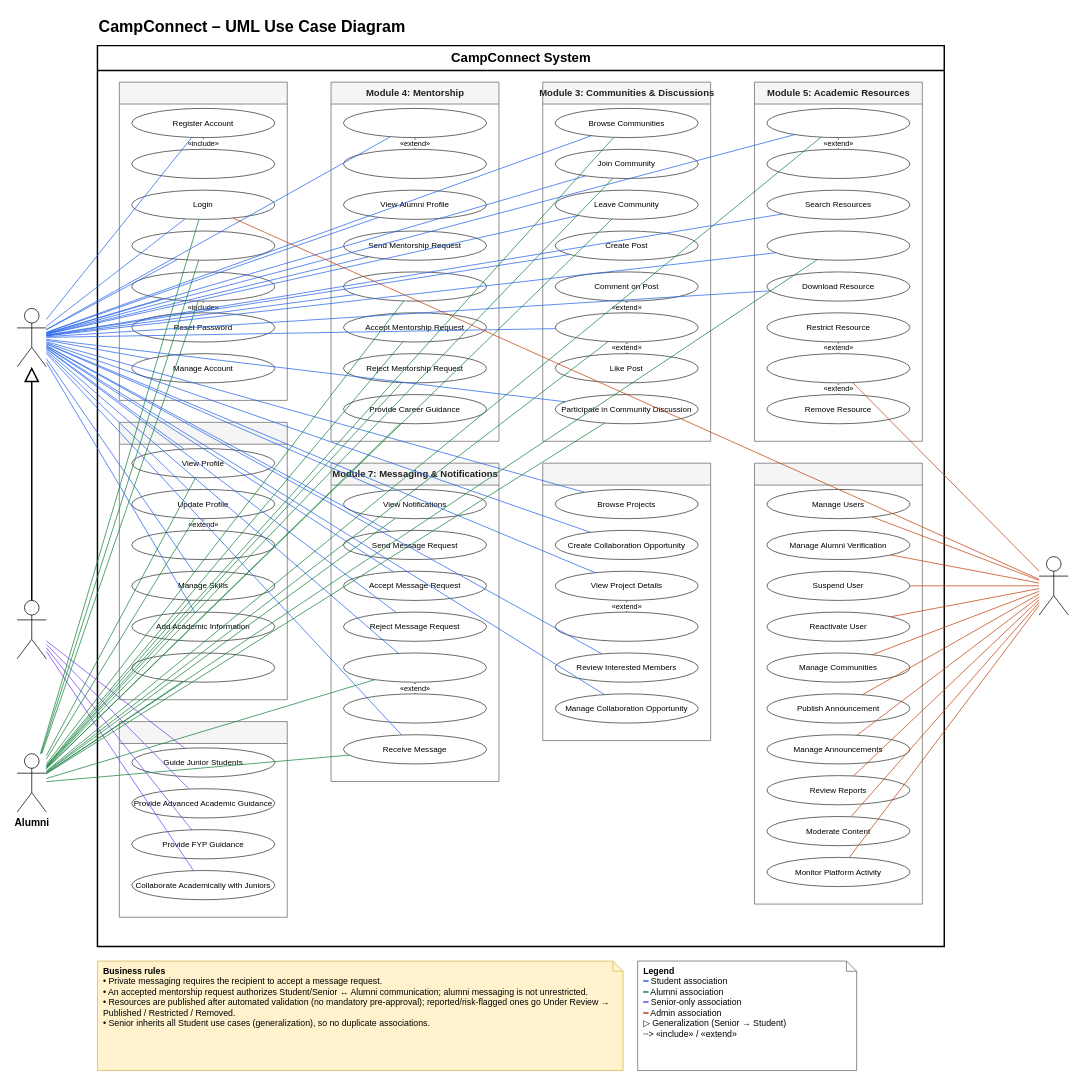
Image size: 1082x1083. Some labels were removed from this diagram. Each missing label, with the box of its shape:
Add Career Information (Alumni): (131, 652, 275, 682)
Admin: (1038, 556, 1068, 615)
Attach Files to Message: (343, 693, 487, 723)
Browse Alumni: (343, 108, 487, 138)
Browse Resources: (766, 108, 910, 138)
Express Interest: (554, 611, 698, 641)
Filter Alumni: (343, 149, 487, 178)
Forgot Password: (131, 271, 275, 301)
Logout: (131, 230, 275, 260)
Module 1: Authentication & Account: (119, 81, 287, 400)
Module 2: Profile Management: (119, 422, 287, 700)
Module 6: Project Collaboration: (542, 462, 711, 741)
Module 8: Administration & Moderation: (754, 462, 922, 904)
Report Resource: (766, 149, 910, 178)
Review Reported Resource: (766, 353, 910, 383)
Send Message: (343, 652, 487, 682)
Senior: (16, 600, 46, 659)
Senior Guidance (Senior only): (119, 721, 287, 917)
Student: (16, 308, 46, 367)
Upload Profile Picture: (131, 530, 275, 560)
Upload Resource: (766, 230, 910, 260)
Verify Email with OTP: (131, 149, 275, 178)
View Mentorship Status: (343, 271, 487, 301)
View Posts: (554, 312, 698, 342)
